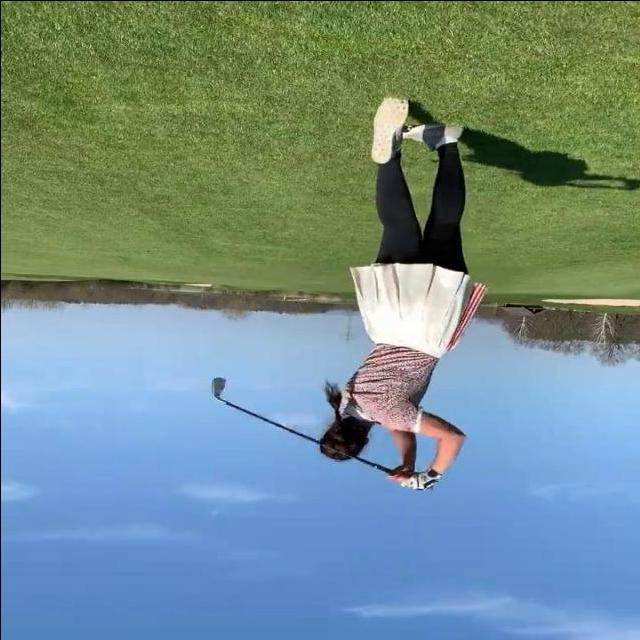ClubHandle: (208, 373, 432, 490)
ClubHead: (208, 374, 226, 397)
